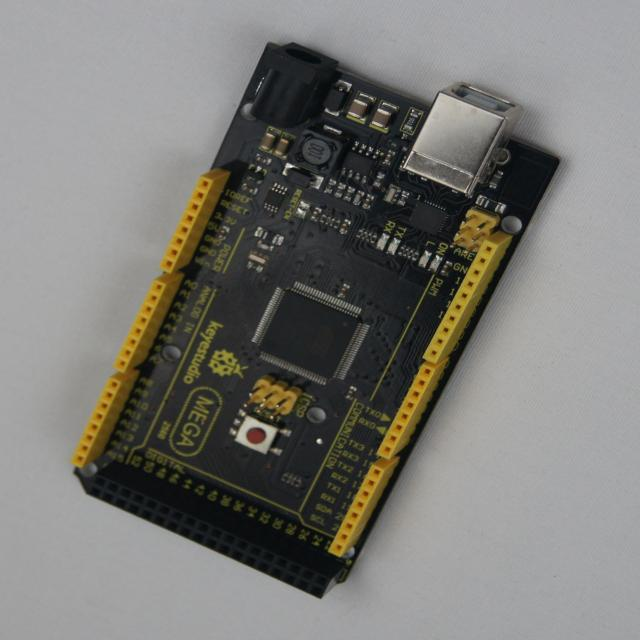Arduino Mega 2560 -Yellow-: (73, 44, 558, 598)
